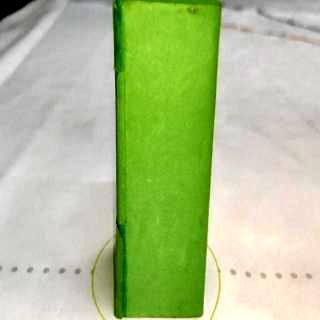greenbox: (108, 0, 225, 320)
